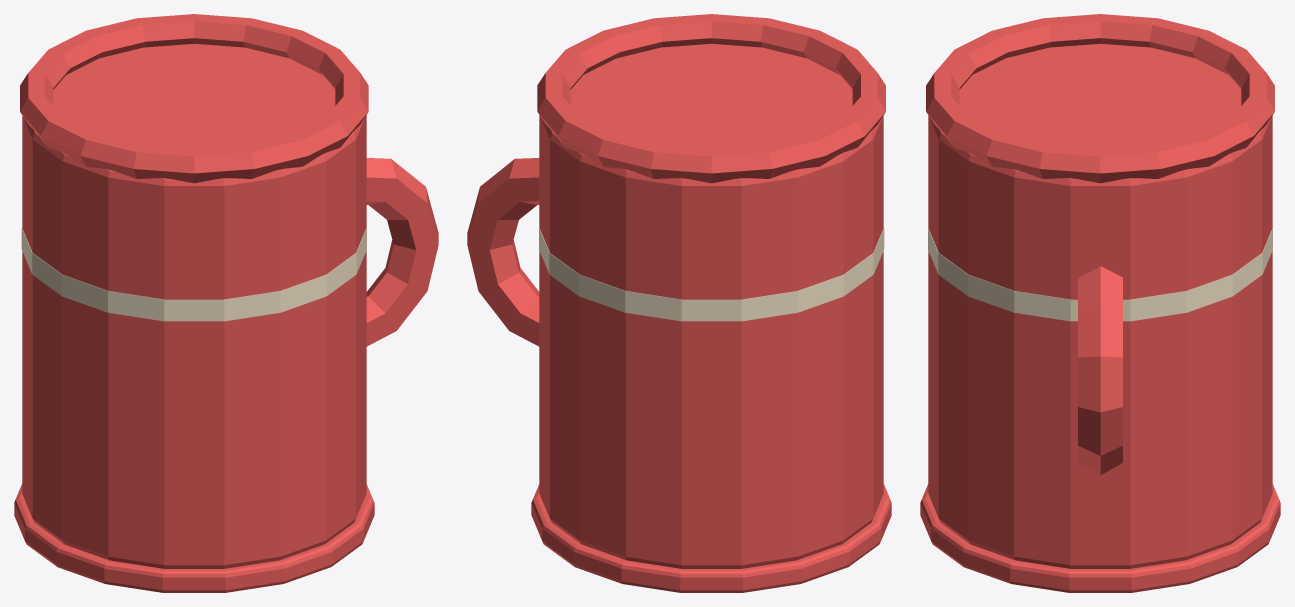
Rendered from prop_mug.glb.
3 renders of one model, left to right at view 1: azimuth 30°, elevation 25°; view 2: azimuth 150°, elevation 25°; view 3: azimuth 270°, elevation 25°, orthographic.
Parts seen in each view (by area): view 1: PropMug; view 2: PropMug; view 3: PropMug.
Boxes of the visible parts, x1,y1,x2,y2 form: PropMug: [14, 14, 438, 592]; PropMug: [467, 14, 891, 592]; PropMug: [920, 14, 1280, 592].
Bounding box in the file's own units: 2.3 × 2.4 × 1.8.
